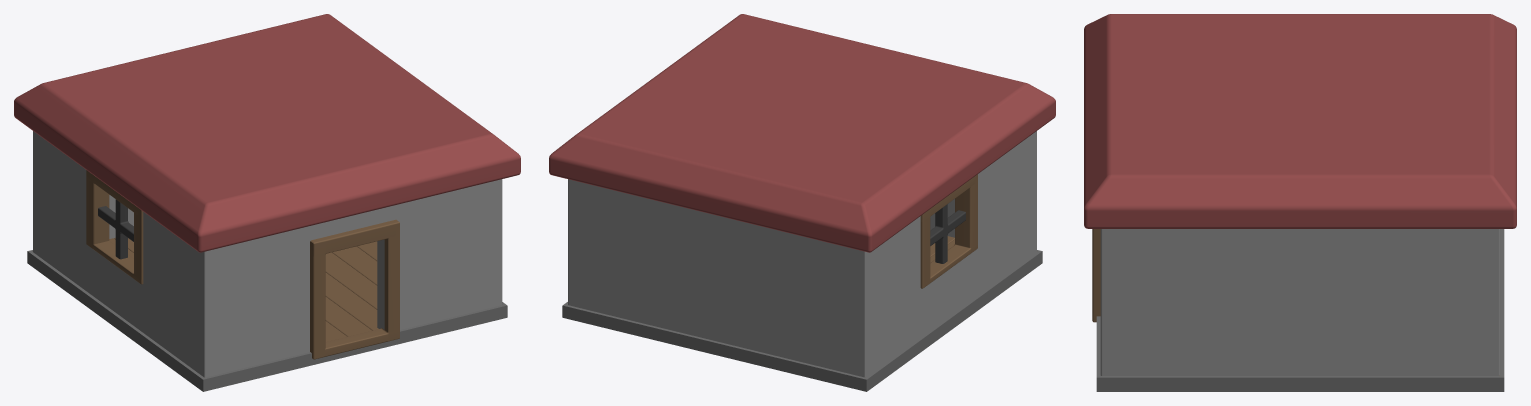
Rendered from home.fbx.
3 views of the same model, side by side, from view 1: azimuth 30°, elevation 25°; view 2: azimuth 150°, elevation 25°; view 3: azimuth 270°, elevation 25° (orthographic). The views are drawn at different scales.
Parts seen in each view (by area): view 1: pCube25, pCube23, pCube26, polySurface2, polySurface3, pCube6, pCube5, pCube24, pCube7, pCube4; view 2: pCube25, pCube23, pCube26, polySurface3, pCube24; view 3: pCube25, pCube23, pCube26, polySurface2.
Boxes of the visible parts, x1,y1,x2,y2 form: pCube25: (14,14,520,252); pCube23: (33,131,502,377); pCube26: (27,250,507,391); polySurface2: (310,219,399,359); polySurface3: (86,170,143,284); pCube6: (325,272,378,330); pCube5: (325,252,377,309); pCube24: (98,199,133,259); pCube7: (325,297,371,336); pCube4: (332,246,377,285); pCube25: (549,14,1055,252); pCube23: (568,131,1036,377); pCube26: (562,250,1042,391); polySurface3: (920,174,977,288); pCube24: (930,204,965,263); pCube25: (1084,14,1516,228); pCube23: (1100,229,1500,375); pCube26: (1096,229,1504,391); polySurface2: (1092,229,1100,322).
Bounding box in the file's own units: 26 × 14 × 26.
